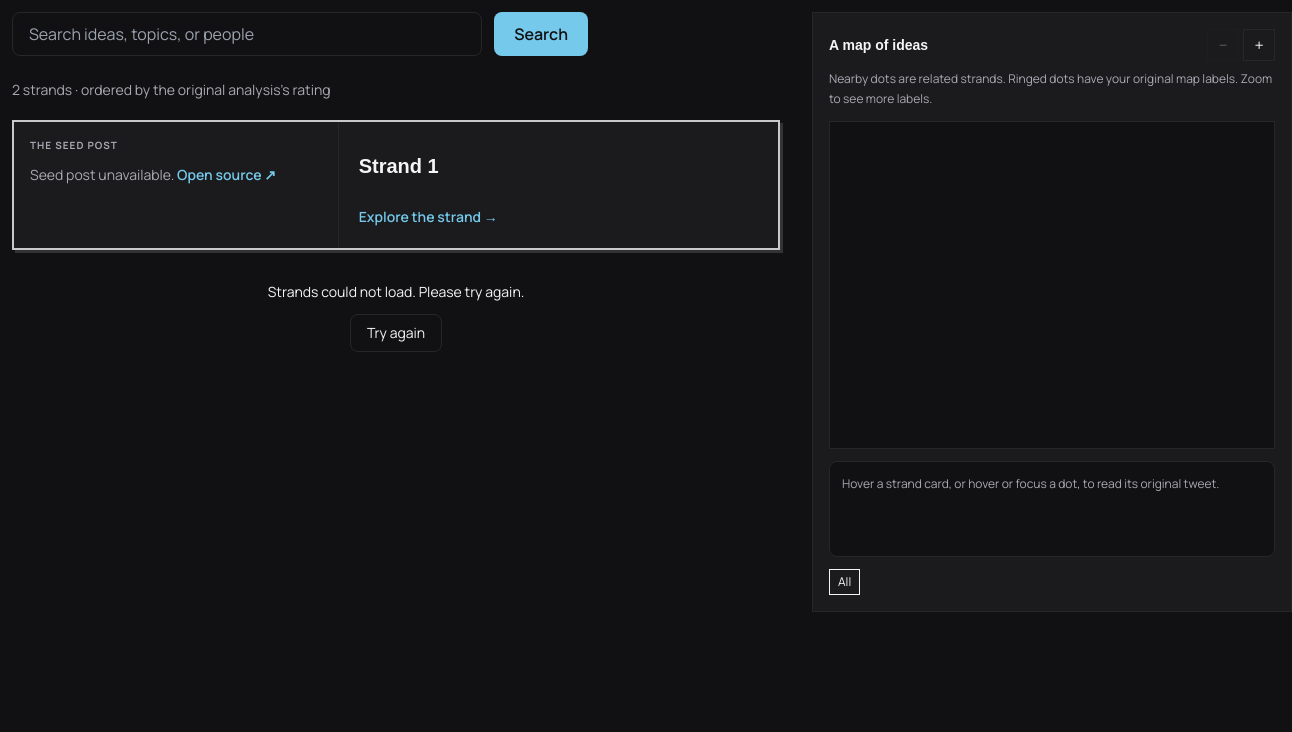
failed page loads retain existing cards and offer retry without an automatic retry loop
Expected: the message "Strands could not load. Please try again." is shown, x1=268 y1=282 x2=524 y2=301
Expected: the link "Strand 1" is shown, x1=359 y1=155 x2=439 y2=177
Click the button "Try again".
click(396, 333)  # box x1=350 y1=314 x2=442 y2=352
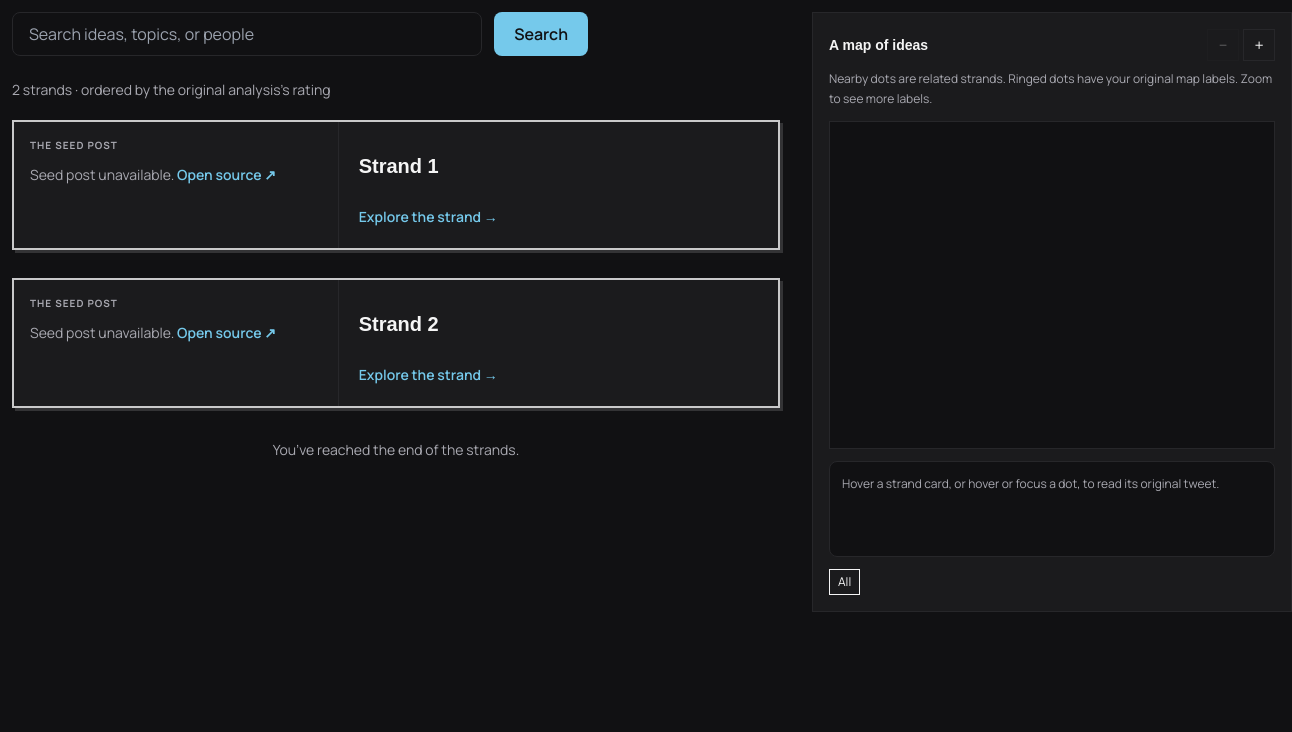
Result: the link "Strand 2" is shown at x1=359 y1=313 x2=439 y2=335
